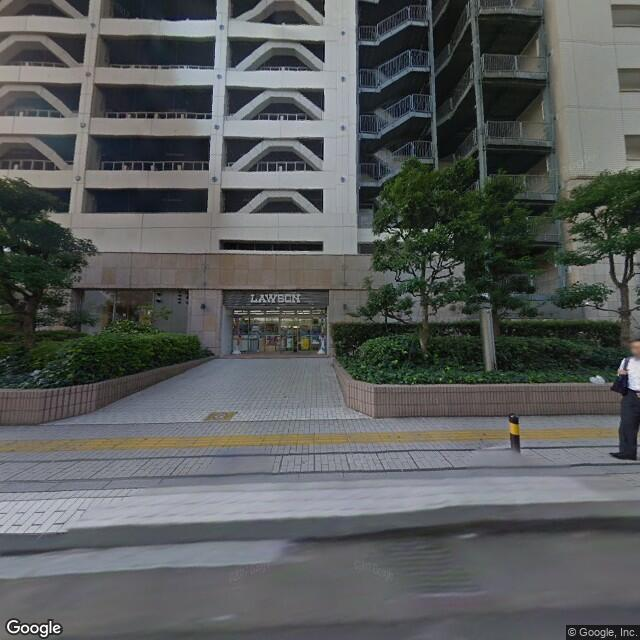lawson: (242, 287, 308, 309)
